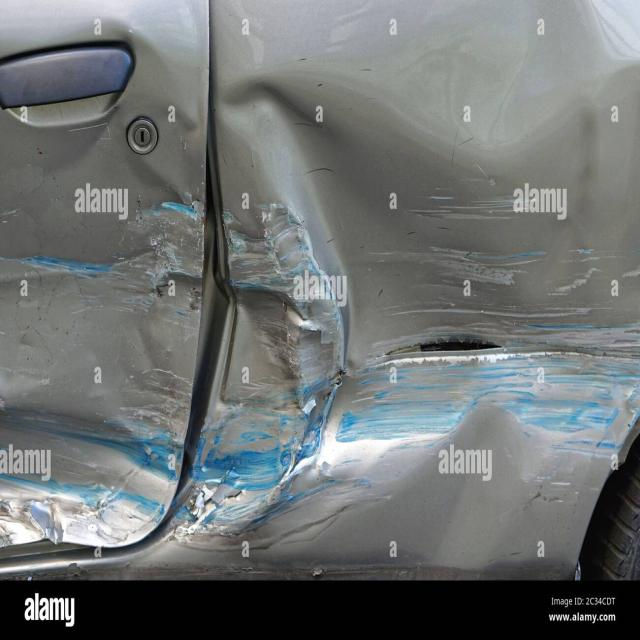dent: (215, 186, 358, 574), (424, 40, 573, 149), (215, 57, 340, 167), (433, 398, 556, 509)
scratch: (3, 201, 190, 319), (372, 244, 552, 290), (406, 185, 551, 225), (543, 264, 610, 301)
